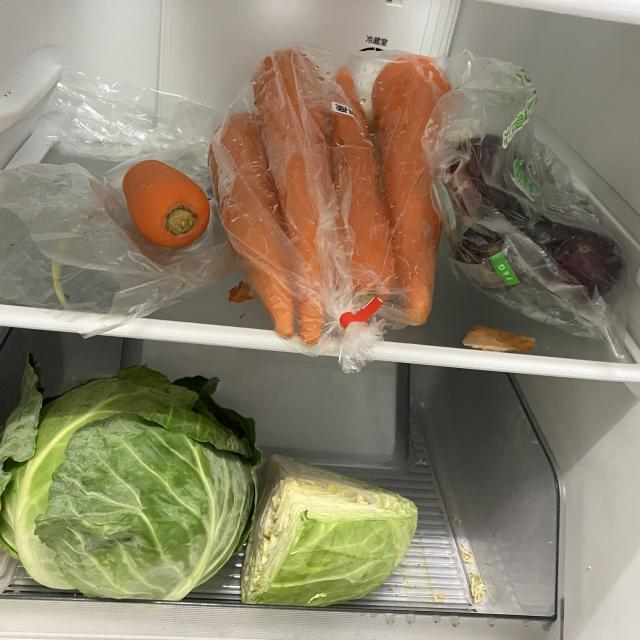cabbage: (1, 357, 264, 607), (240, 451, 422, 622)
carrot: (253, 49, 335, 346), (369, 54, 457, 330), (210, 111, 295, 343), (329, 62, 398, 306), (125, 159, 212, 254)
eggplant: (445, 129, 528, 271), (522, 216, 629, 308)
